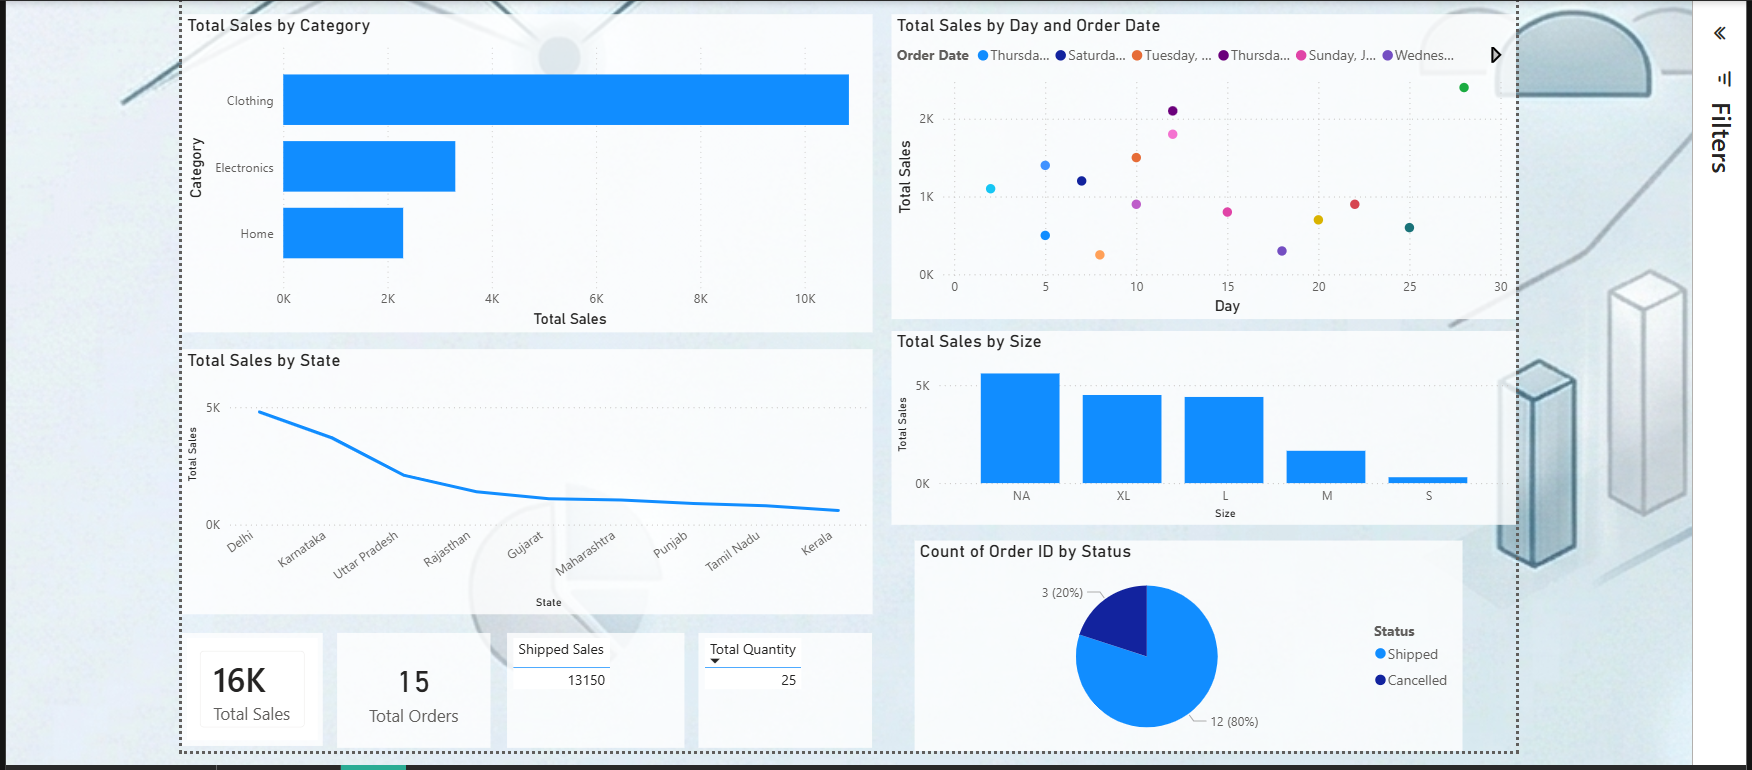

The page's visual inventory and layout, read from the dashboard file:
{"tool":"powerbi","page":{"name":"Page 1","canvas":[1280,720],"ordinal":0},"visuals":[{"type":"cardVisual","fields":{"Data":["Amazon Sale Report.Total Sales"]},"box":[0,606.8,135,108.7],"z":0},{"type":"card","fields":{"Values":["Amazon Sale Report.Total Orders"]},"box":[149.1,606.8,147.3,110.5],"z":1000},{"type":"tableEx","fields":{"Values":["Amazon Sale Report.Shipped Sales"]},"box":[312.2,606.8,170.1,110.5],"z":2000},{"type":"tableEx","fields":{"Values":["Amazon Sale Report.Total Quantity"]},"box":[496.3,606.8,166.6,110.5],"z":3000},{"type":"clusteredBarChart","fields":{"Y":["Amazon Sale Report.Total Sales"],"Category":["Amazon Sale Report.Category"]},"box":[0,12.3,663,305.2],"z":4000},{"type":"lineChart","fields":{"Category":["Amazon Sale Report.Order Date.Variation.Date Hierarchy.Day"],"Y":["Amazon Sale Report.Total Sales"],"Series":["Amazon Sale Report.Order Date"]},"box":[680.5,12.3,599.8,292.9],"z":5000},{"type":"lineChart","fields":{"Category":["Amazon Sale Report.State"],"Y":["Amazon Sale Report.Total Sales"]},"box":[0,335,663,254.3],"z":6000},{"type":"clusteredColumnChart","fields":{"Category":["Amazon Sale Report.Size"],"Y":["Amazon Sale Report.Total Sales"]},"box":[680.5,317.5,599.8,185.9],"z":7000},{"type":"pieChart","fields":{"Category":["Amazon Sale Report.Status"],"Y":["CountNonNull(Amazon Sale Report.Order ID)"]},"box":[703.3,517.4,526.2,203.4],"z":8000}]}

Visuals, with their boxes on the page's 1280x720 design canvas (x1, y1, x2, y2). These are canvas units, not pixel positions in the 1752x770 screenshot, which may show the page scaled, cropped or inside an application window:
cardVisual - Amazon Sale Report.Total Sales: select_region(0, 607, 135, 716)
card - Amazon Sale Report.Total Orders: select_region(149, 607, 296, 717)
tableEx - Amazon Sale Report.Shipped Sales: select_region(312, 607, 482, 717)
tableEx - Amazon Sale Report.Total Quantity: select_region(496, 607, 663, 717)
clusteredBarChart - Amazon Sale Report.Total Sales x Amazon Sale Report.Category: select_region(0, 12, 663, 318)
lineChart - Amazon Sale Report.Order Date.Variation.Date Hierarchy.Day x Amazon Sale Report.Total Sales: select_region(680, 12, 1280, 305)
lineChart - Amazon Sale Report.State x Amazon Sale Report.Total Sales: select_region(0, 335, 663, 589)
clusteredColumnChart - Amazon Sale Report.Size x Amazon Sale Report.Total Sales: select_region(680, 318, 1280, 503)
pieChart - Amazon Sale Report.Status x CountNonNull(Amazon Sale Report.Order ID): select_region(703, 517, 1230, 721)
